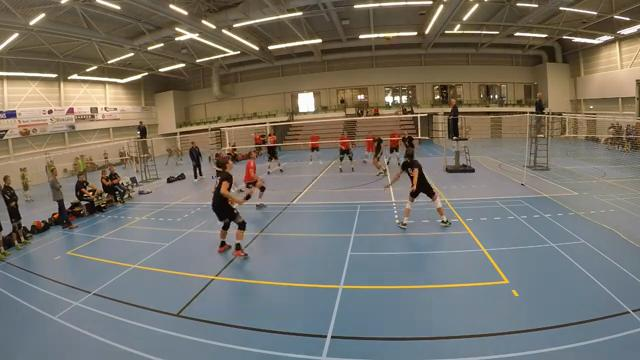Dig: (378, 146, 454, 227)
Player: (212, 157, 250, 256), (244, 151, 265, 208), (267, 133, 282, 173), (339, 131, 354, 171), (373, 137, 386, 175), (387, 131, 400, 165), (363, 131, 375, 163), (309, 135, 321, 163), (402, 131, 414, 149)
